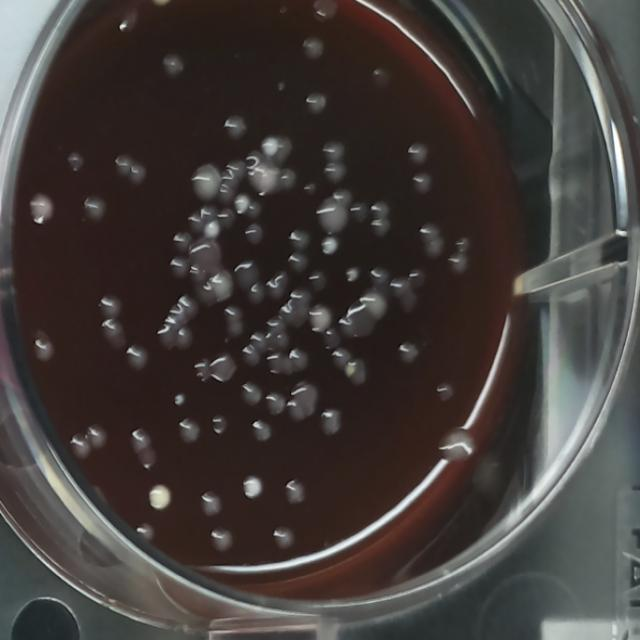Bacillus: (247, 157, 285, 199), (358, 286, 392, 326)
Staphylococcus: (146, 481, 174, 514), (240, 474, 264, 502), (258, 133, 282, 161), (200, 216, 222, 242), (232, 191, 252, 216), (320, 234, 339, 257), (344, 263, 362, 285), (171, 389, 188, 410), (342, 361, 358, 379)
